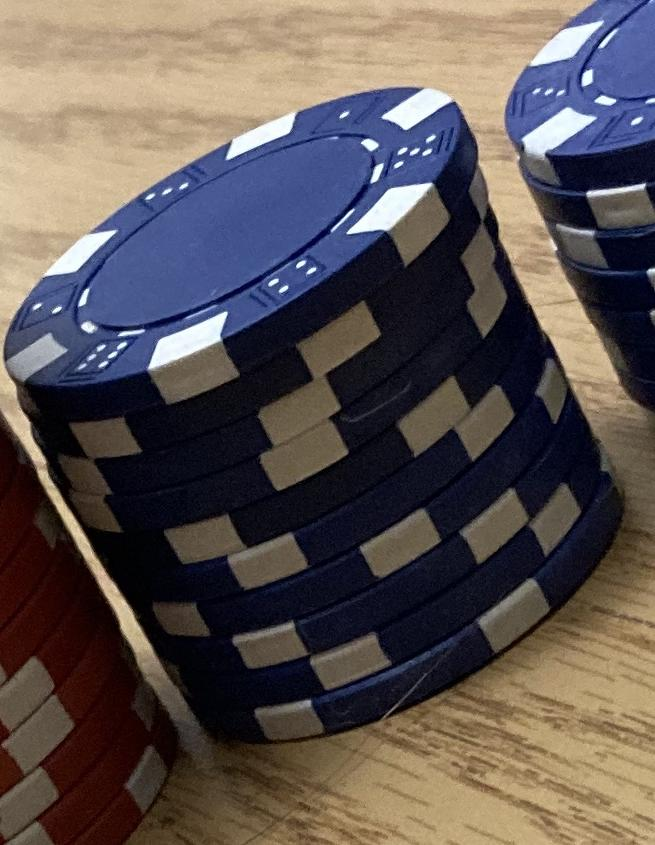Chip: (1, 1, 655, 845)
